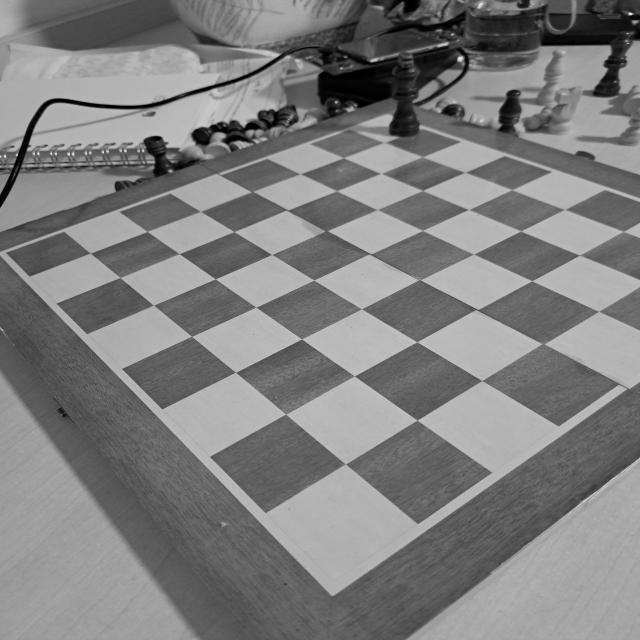chess-table-corners: (305, 566, 361, 602), (0, 247, 20, 260), (383, 110, 394, 118)
